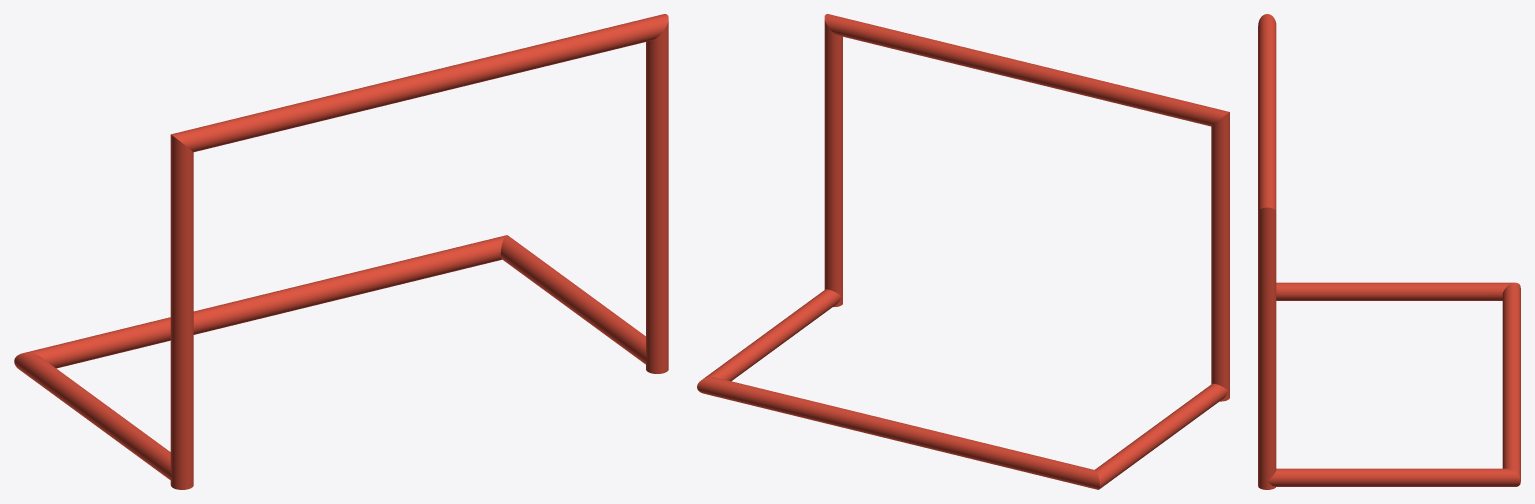
Rendered from goal_red.dae.
3 renders of one model, left to right at view 1: azimuth 30°, elevation 25°; view 2: azimuth 150°, elevation 25°; view 3: azimuth 270°, elevation 25°, orthographic. The views are drawn at different scales.
Visible parts, largest first — view 1: ID2; view 2: ID2; view 3: ID2.
Boxes of the visible parts, left/top/right/bottom form: ID2: left=14, top=14, right=668, bottom=489; ID2: left=697, top=14, right=1229, bottom=489; ID2: left=1258, top=14, right=1520, bottom=489.
Size of the model in its own units: 1.9 by 1.09 by 1.3.
